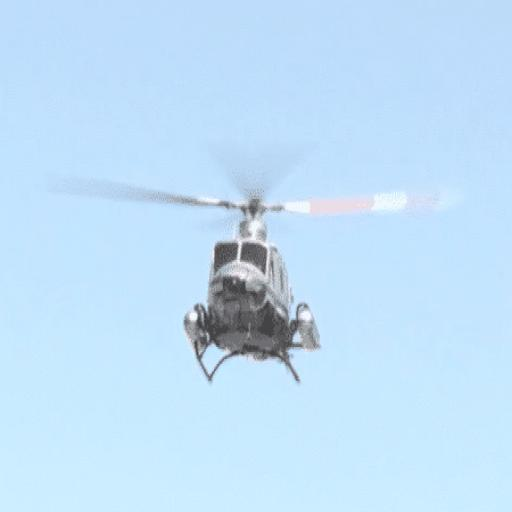helicopter: (162, 173, 365, 387)
